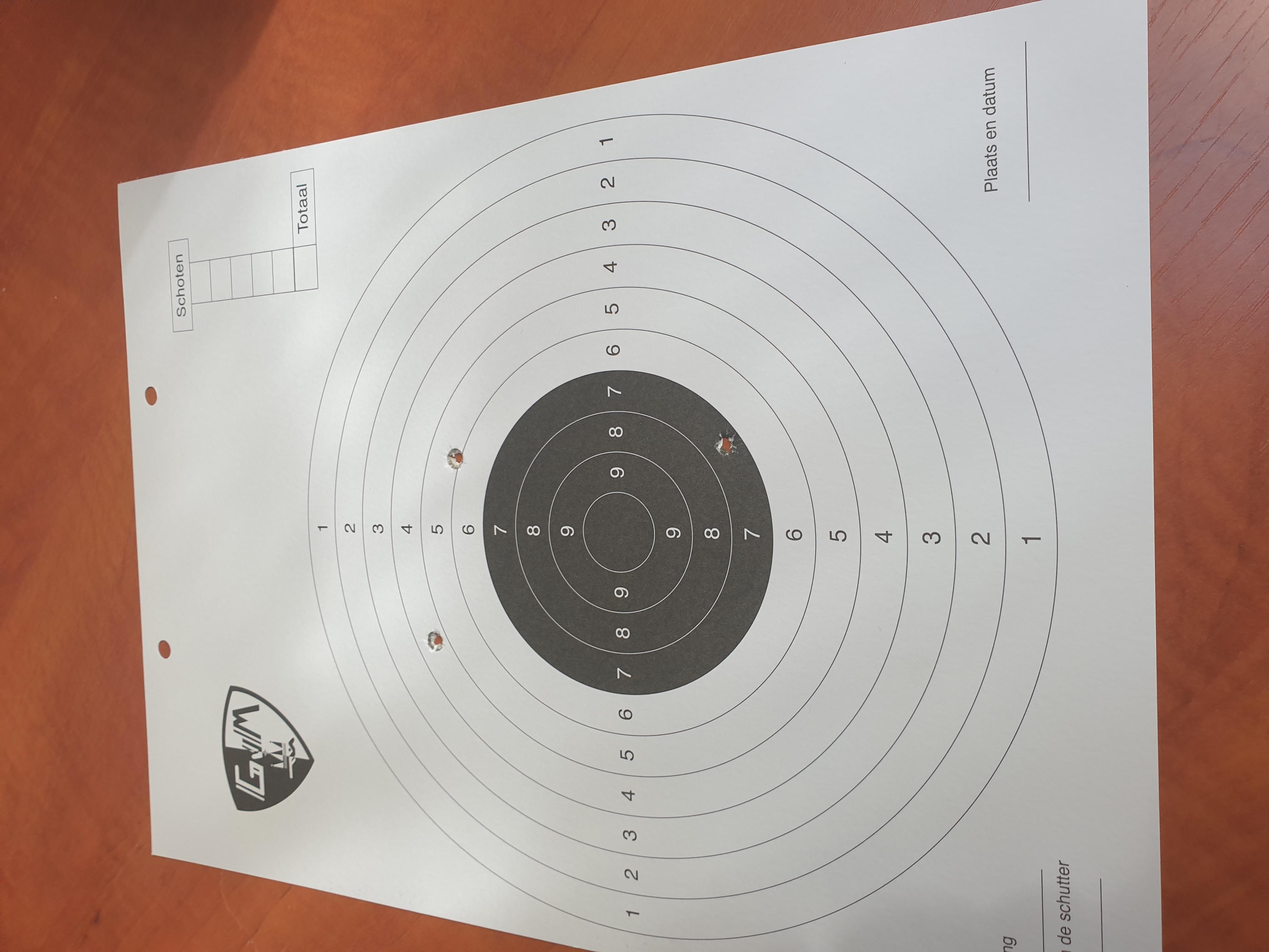hole: (659, 536, 701, 556), (637, 334, 677, 351), (399, 319, 431, 334)
